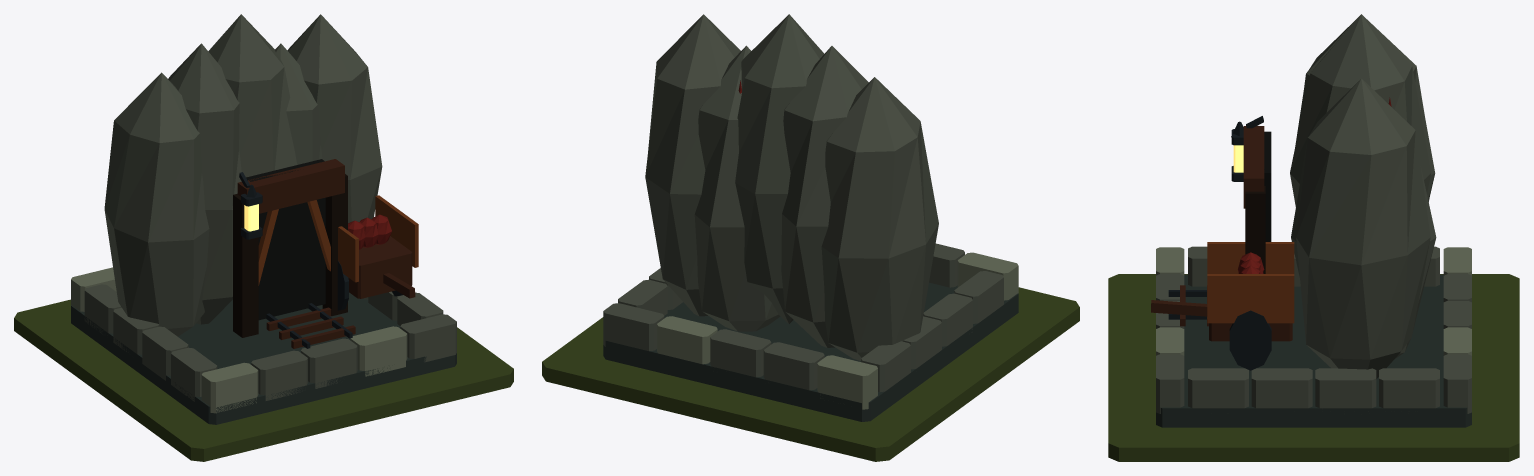
The model's file is emberglass_t6.glb.
The picture shows the model from 3 angles, left to right: view 1: azimuth 30°, elevation 25°; view 2: azimuth 150°, elevation 25°; view 3: azimuth 270°, elevation 25°; orthographic projection. The views are drawn at different scales.
Parts seen in each view (by area): view 1: MMR | emberglass | T06 Architecture.001, MMR | emberglass | Tier 06 Ground.001; view 2: MMR | emberglass | T06 Architecture.001, MMR | emberglass | Tier 06 Ground.001; view 3: MMR | emberglass | T06 Architecture.001, MMR | emberglass | Tier 06 Ground.001.
Boxes of the visible parts, left/top/right/bottom form: MMR | emberglass | T06 Architecture.001: left=71, top=14, right=456, bottom=424; MMR | emberglass | Tier 06 Ground.001: left=14, top=299, right=513, bottom=461; MMR | emberglass | T06 Architecture.001: left=603, top=14, right=1018, bottom=421; MMR | emberglass | Tier 06 Ground.001: left=542, top=287, right=1079, bottom=461; MMR | emberglass | T06 Architecture.001: left=1151, top=14, right=1471, bottom=427; MMR | emberglass | Tier 06 Ground.001: left=1108, top=274, right=1519, bottom=461.
Size of the model in its own units: 1.3 by 1.26 by 1.3.
Materials: 2 (1 with a texture image).
